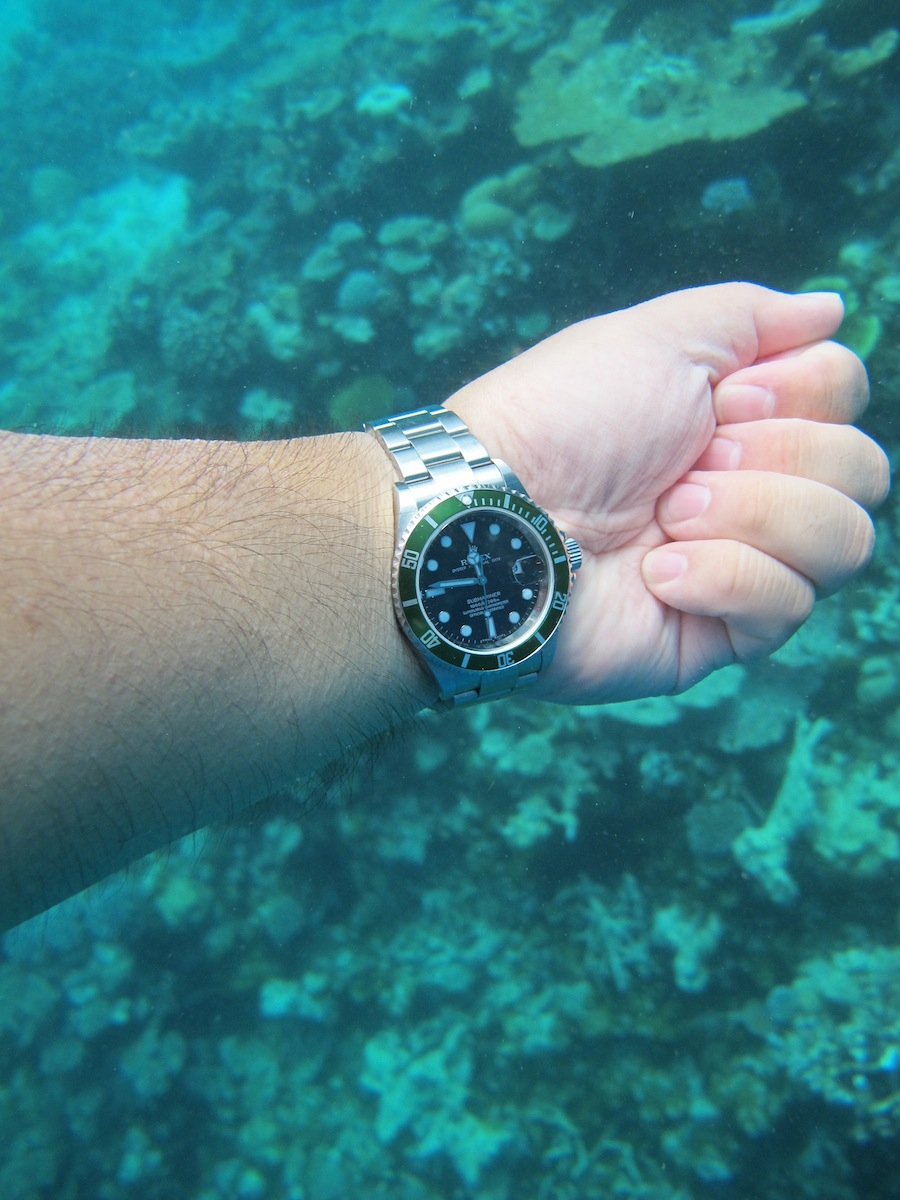clock: (417, 508, 557, 657)
